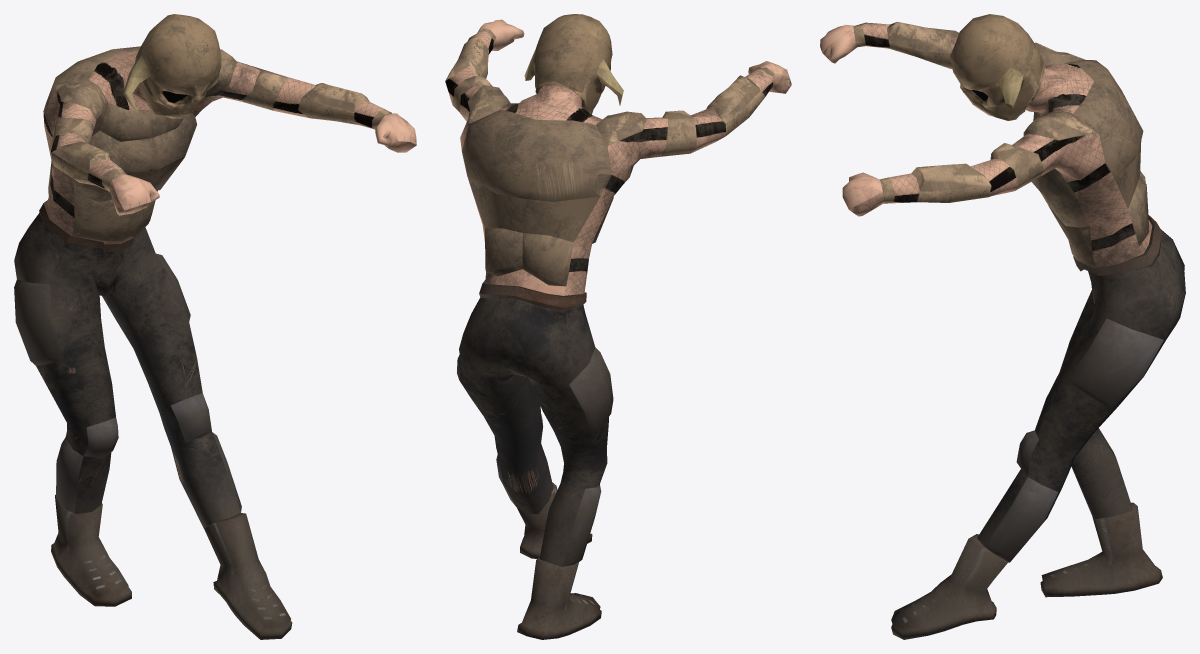
File: Anim_ataque_d3_npc1.0041.obj
3 renders of one model, left to right at view 1: azimuth 30°, elevation 25°; view 2: azimuth 150°, elevation 25°; view 3: azimuth 270°, elevation 25°, orthographic. The views are drawn at different scales.
Parts seen in each view (by area): view 1: NPC2; view 2: NPC2; view 3: NPC2.
Boxes of the visible parts, box(x1,y1,x2,y2) form: NPC2: box(14, 14, 416, 639); NPC2: box(445, 14, 791, 639); NPC2: box(820, 14, 1185, 639).
Size of the model in its own units: 4.78 by 8.72 by 4.88.
